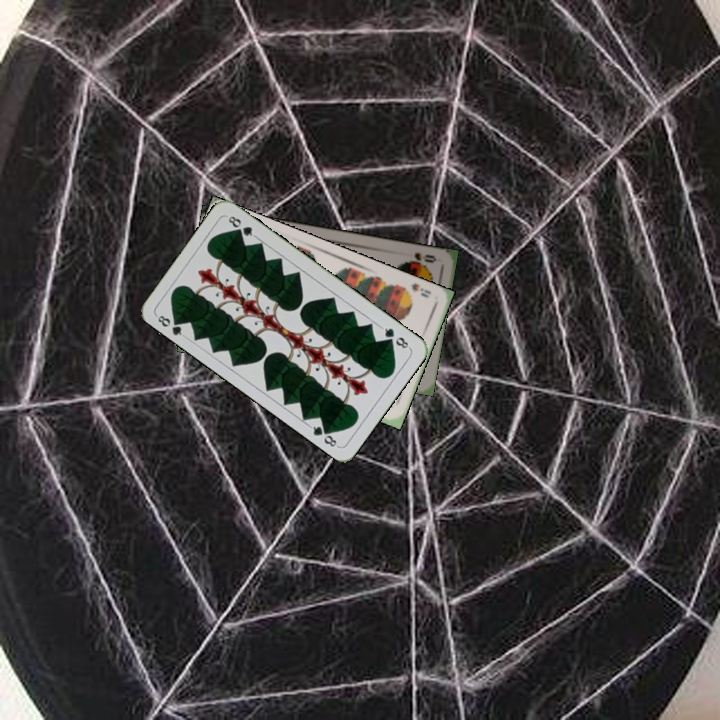G8: (152, 311, 188, 340), (377, 323, 412, 351)
S9: (396, 279, 433, 300)
SO: (400, 249, 439, 267)
